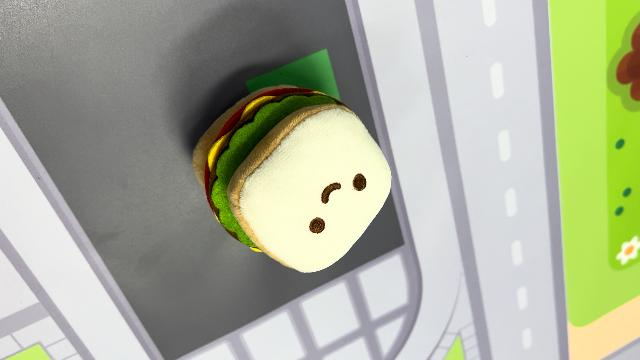sandwich: (190, 82, 394, 274)
